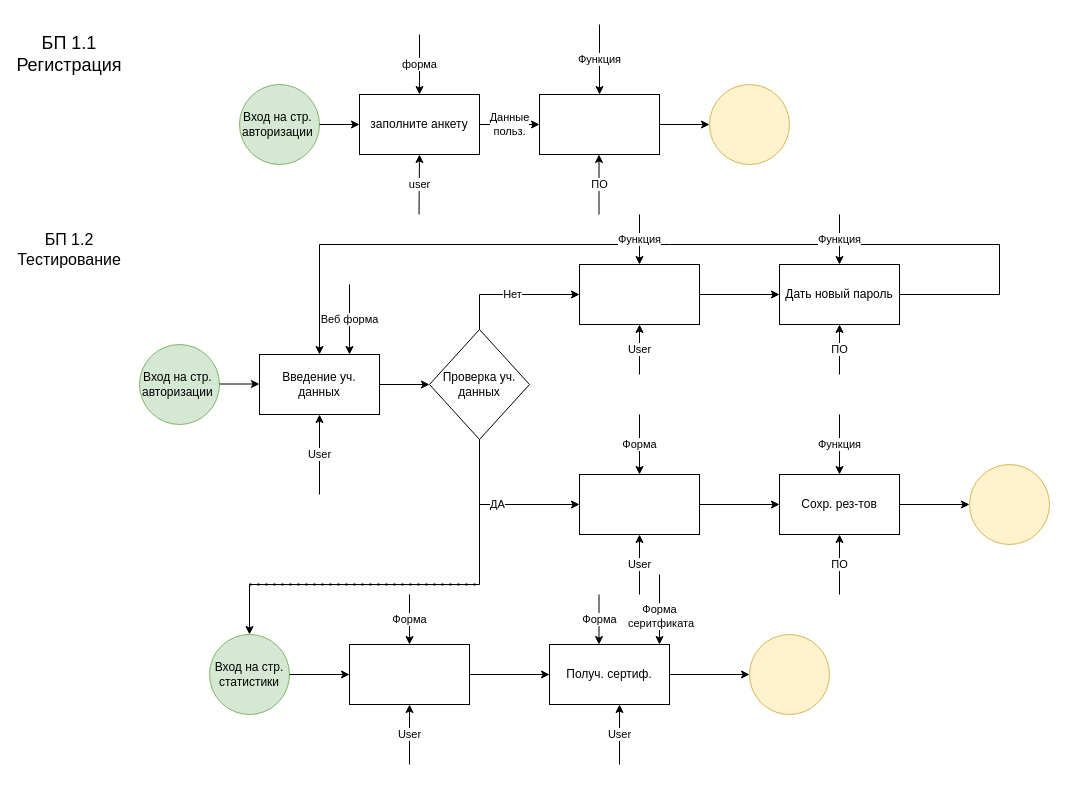
Image size: 1067x790. Some labels were removed from this diagram. Here are the shapes that lost their labels. From the top down, the centre of each, then its label:
pixel 599 124: созд. уч. запись
pixel 639 294: Требуется напоминание
pixel 639 504: Тестирование
pixel 409 674: Просмотр перечень тестов
